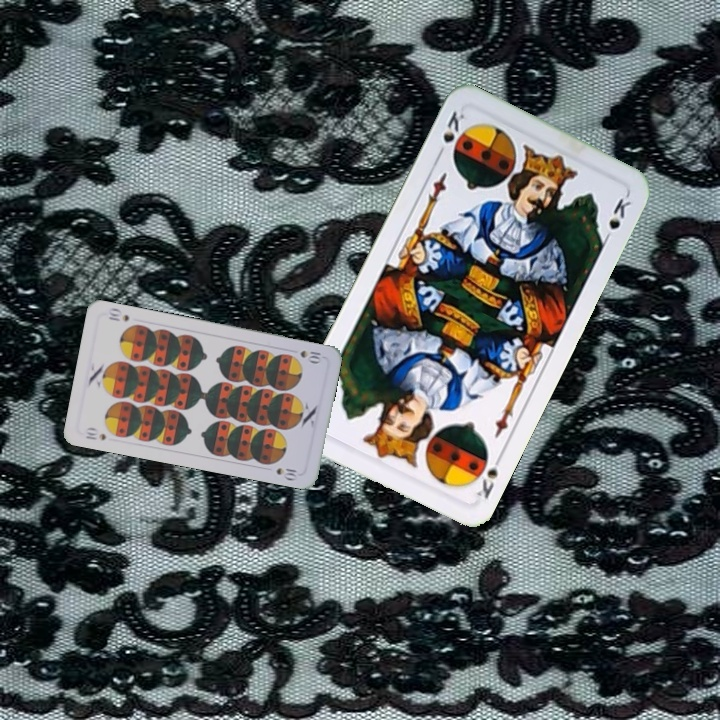S10: (296, 346, 324, 365), (81, 424, 109, 443)
SK: (432, 106, 468, 161), (472, 449, 506, 502)
